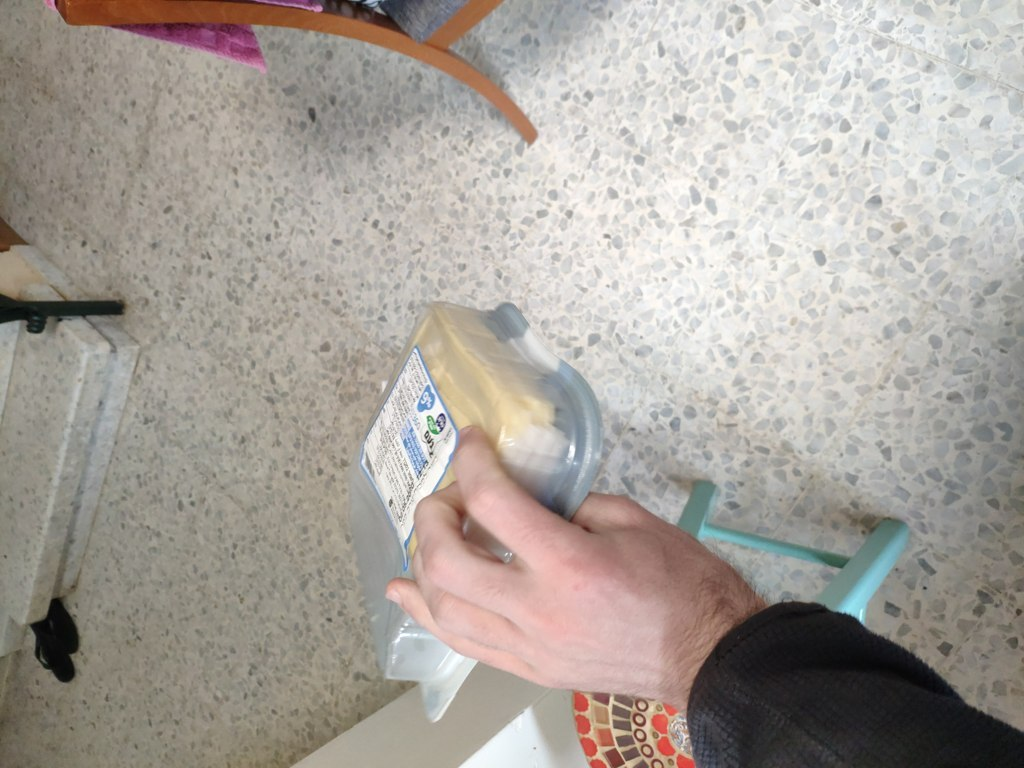Cheese: (351, 301, 556, 717)
